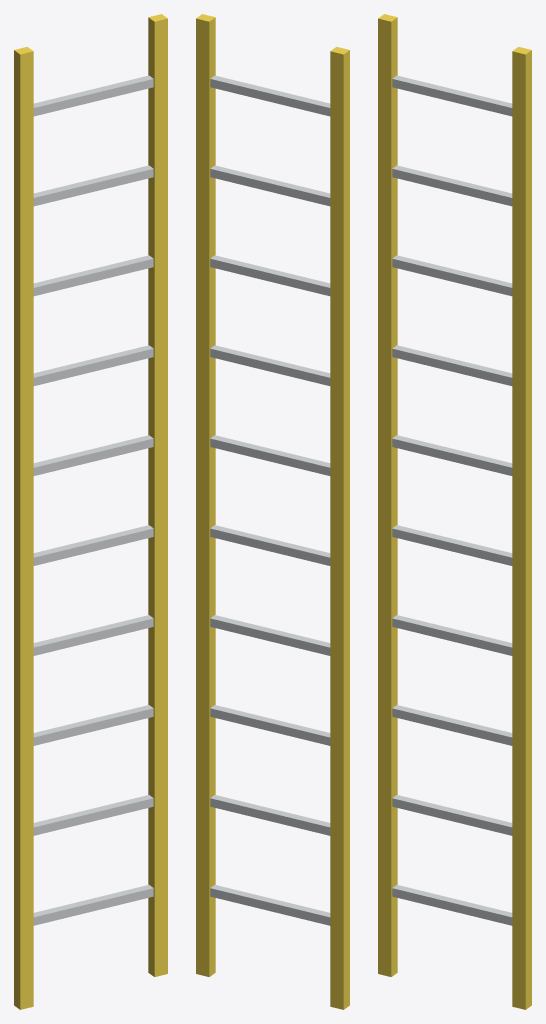
The model's file is ladder_maint.glb.
The picture shows the model from 3 angles, left to right: view 1: azimuth 30°, elevation 25°; view 2: azimuth 150°, elevation 25°; view 3: azimuth 330°, elevation 25°; orthographic projection.
Parts seen in each view (by area): view 1: ladder_maint; view 2: ladder_maint; view 3: ladder_maint.
Part boxes in pixels (bbox=[...]): ladder_maint: bbox=[14, 14, 167, 1009]; ladder_maint: bbox=[196, 14, 349, 1009]; ladder_maint: bbox=[378, 14, 531, 1009].
Bounding box in the file's own units: 0.55 × 3.4 × 0.04.
